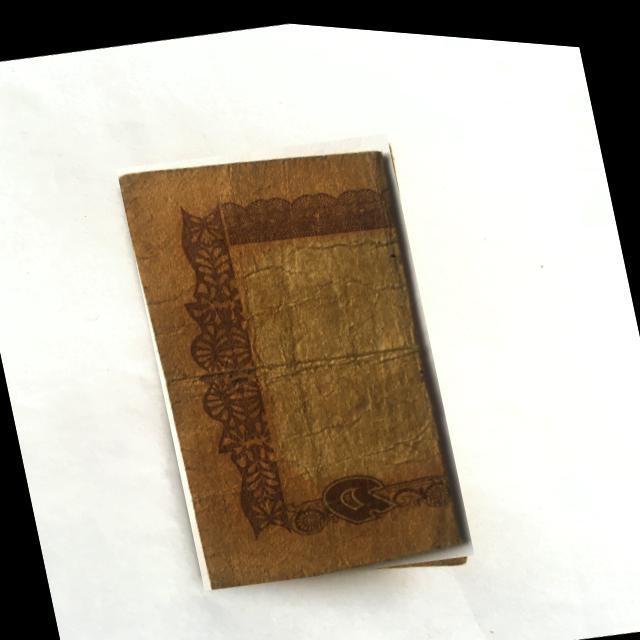Taka: (117, 109, 474, 604)
